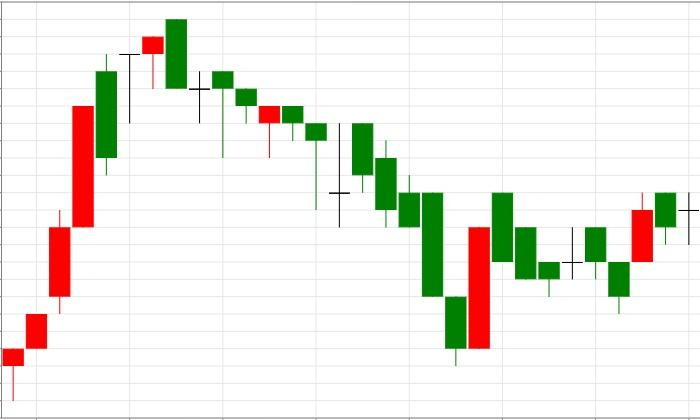bearish_engulfing_fall: (2, 19, 187, 401)
